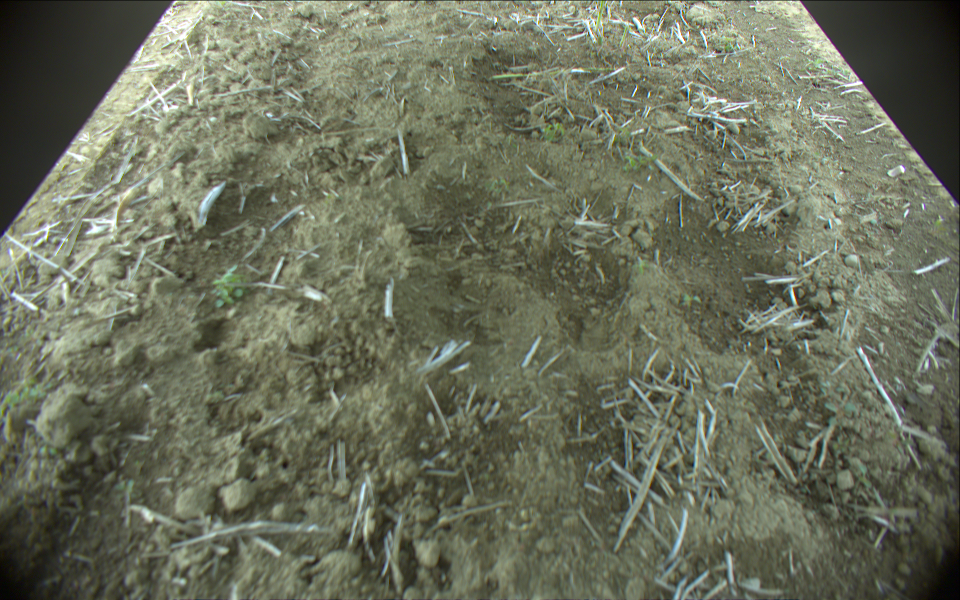aspa: (597, 1, 606, 31)
